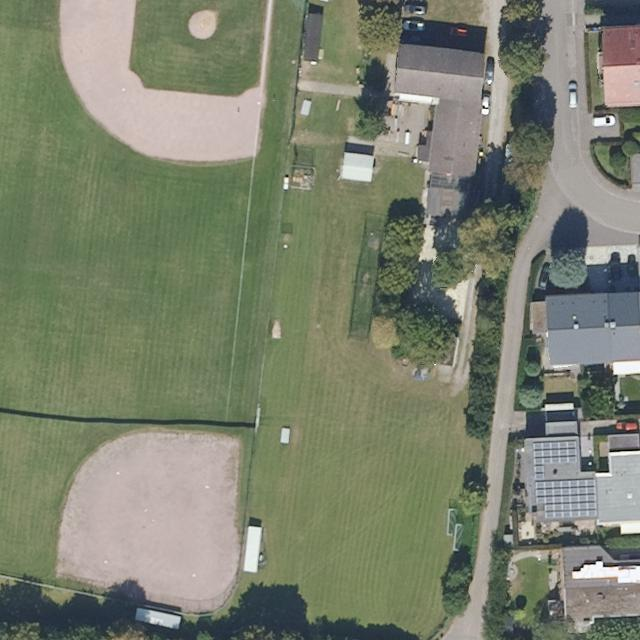PV: (530, 436, 599, 523)
